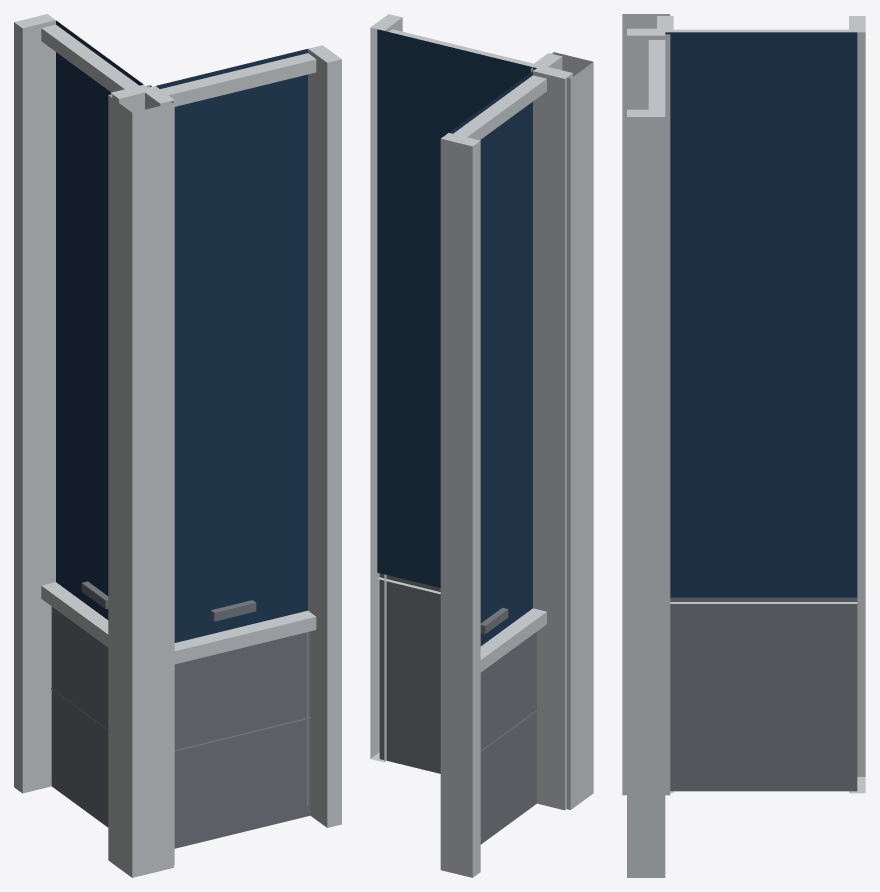
Rendered from mid-c1_close.fbx.
The picture shows the model from 3 angles, left to right: view 1: azimuth 30°, elevation 25°; view 2: azimuth 150°, elevation 25°; view 3: azimuth 270°, elevation 25°; orthographic projection. The views are drawn at different scales.
Visible parts, largest first — view 1: a2010/0/mid-c1_close; view 2: a2010/0/mid-c1_close; view 3: a2010/0/mid-c1_close.
Part boxes in pixels (box(x1,y1,x2,y2)): a2010/0/mid-c1_close: box(14, 14, 341, 877); a2010/0/mid-c1_close: box(370, 14, 593, 877); a2010/0/mid-c1_close: box(622, 14, 865, 877).
Size of the model in its own units: 1.02 by 3.5 by 1.02.
